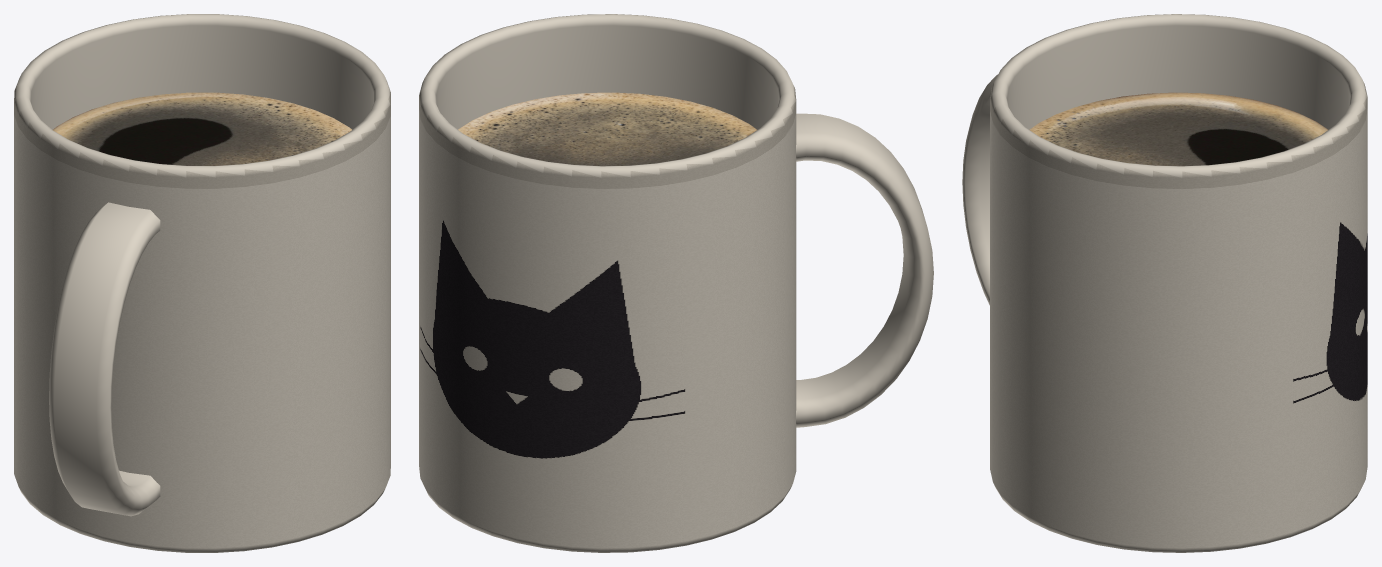
Rendered from SM_MenuMug.fbx.
The picture shows the model from 3 angles, left to right: view 1: azimuth 30°, elevation 25°; view 2: azimuth 150°, elevation 25°; view 3: azimuth 270°, elevation 25°; orthographic projection.
Visible parts, largest first — view 1: SM_MenuMug, Coffee; view 2: SM_MenuMug, Coffee; view 3: SM_MenuMug, Coffee.
Part boxes in pixels (x1,y1,x2,y2): SM_MenuMug: (14,14,390,552); Coffee: (53,92,351,165); SM_MenuMug: (419,14,933,552); Coffee: (458,92,756,166); SM_MenuMug: (962,14,1367,552); Coffee: (1029,92,1328,166).
Size of the model in its own units: 0.1085 by 0.1 by 0.095.
2 materials, 2 textured.
